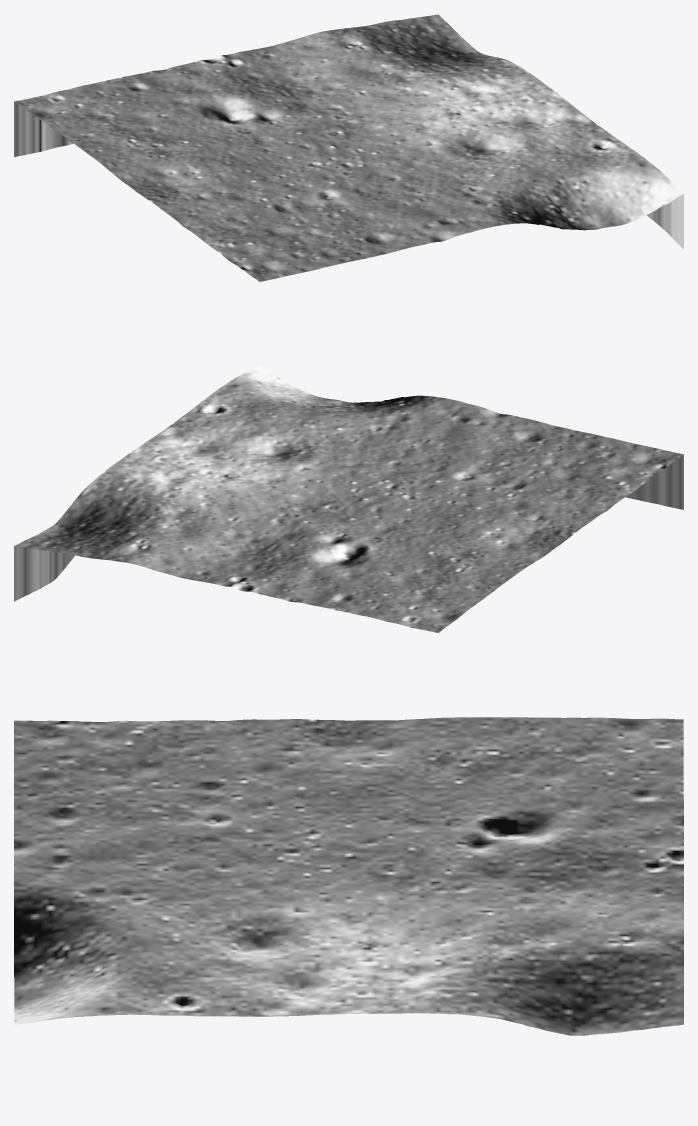
The picture shows the model from 3 angles, top to bottom: view 1: azimuth 30°, elevation 25°; view 2: azimuth 150°, elevation 25°; view 3: azimuth 270°, elevation 25°; orthographic projection. The views are drawn at different scales.
Size of the model in its own units: 638 by 129 by 639.
1 material, 1 textured.
